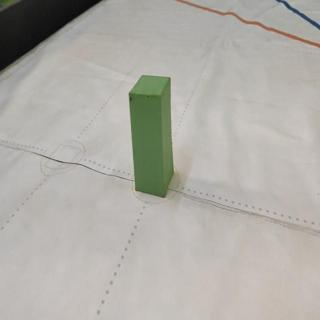greenbox: (128, 73, 175, 196)
